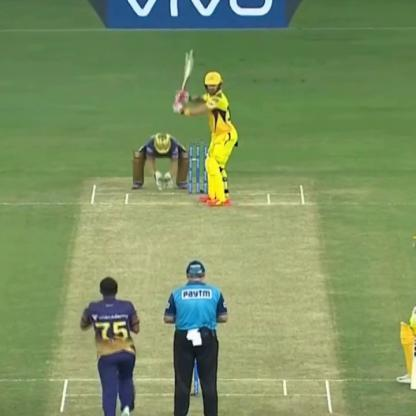bat: (174, 46, 200, 111)
pitch: (57, 174, 343, 416)
